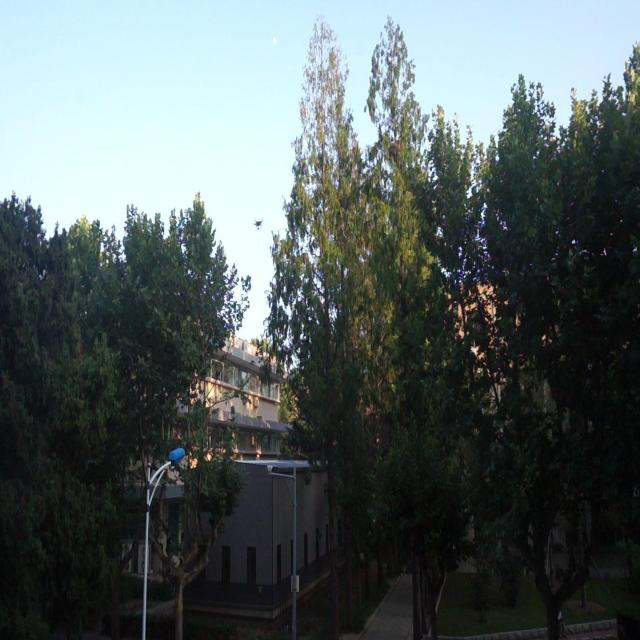drone: (251, 214, 262, 234)
